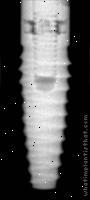BioHorizons: (20, 0, 71, 190)
